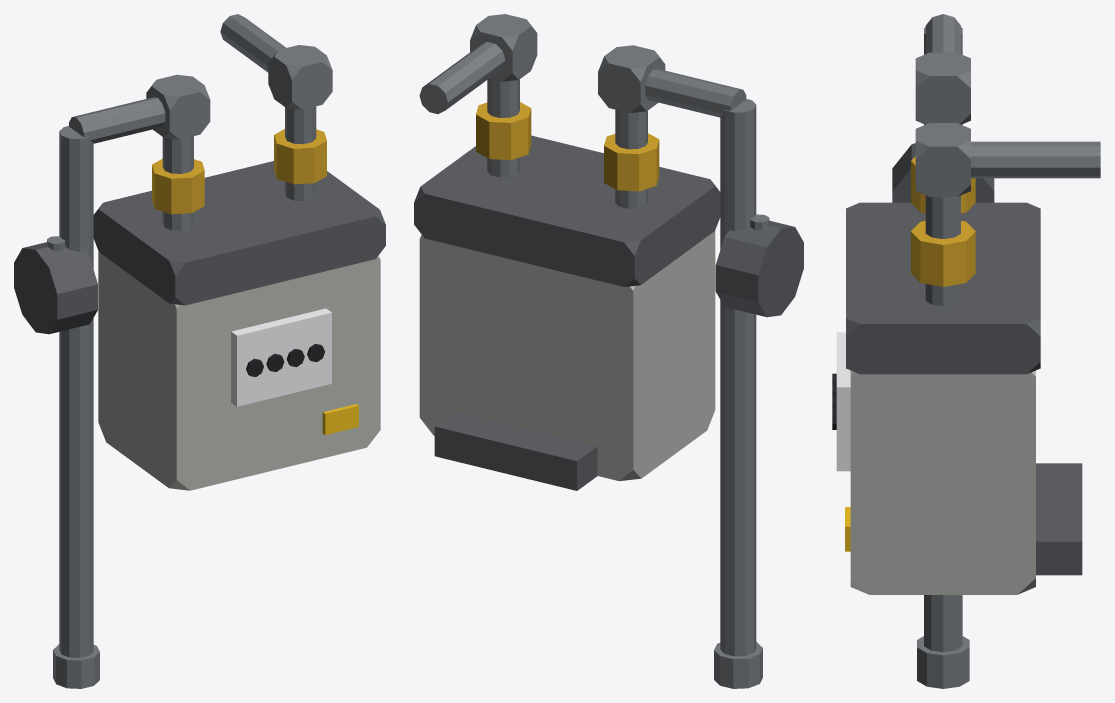
The model's file is gas_meter.obj.
3 renders of one model, left to right at view 1: azimuth 30°, elevation 25°; view 2: azimuth 150°, elevation 25°; view 3: azimuth 270°, elevation 25°, orthographic. The views are drawn at different scales.
Bounding box in the file's own units: 0.455 × 0.8 × 0.29.
